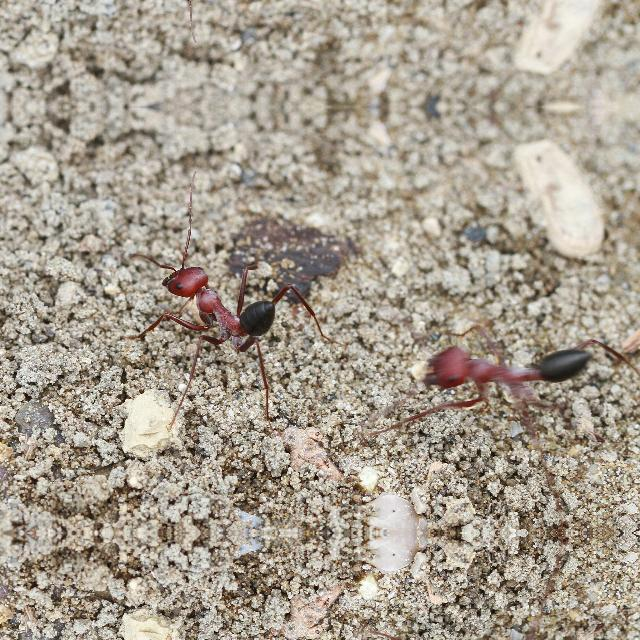Cataglyphis: (394, 324, 626, 420), (140, 238, 314, 358)
